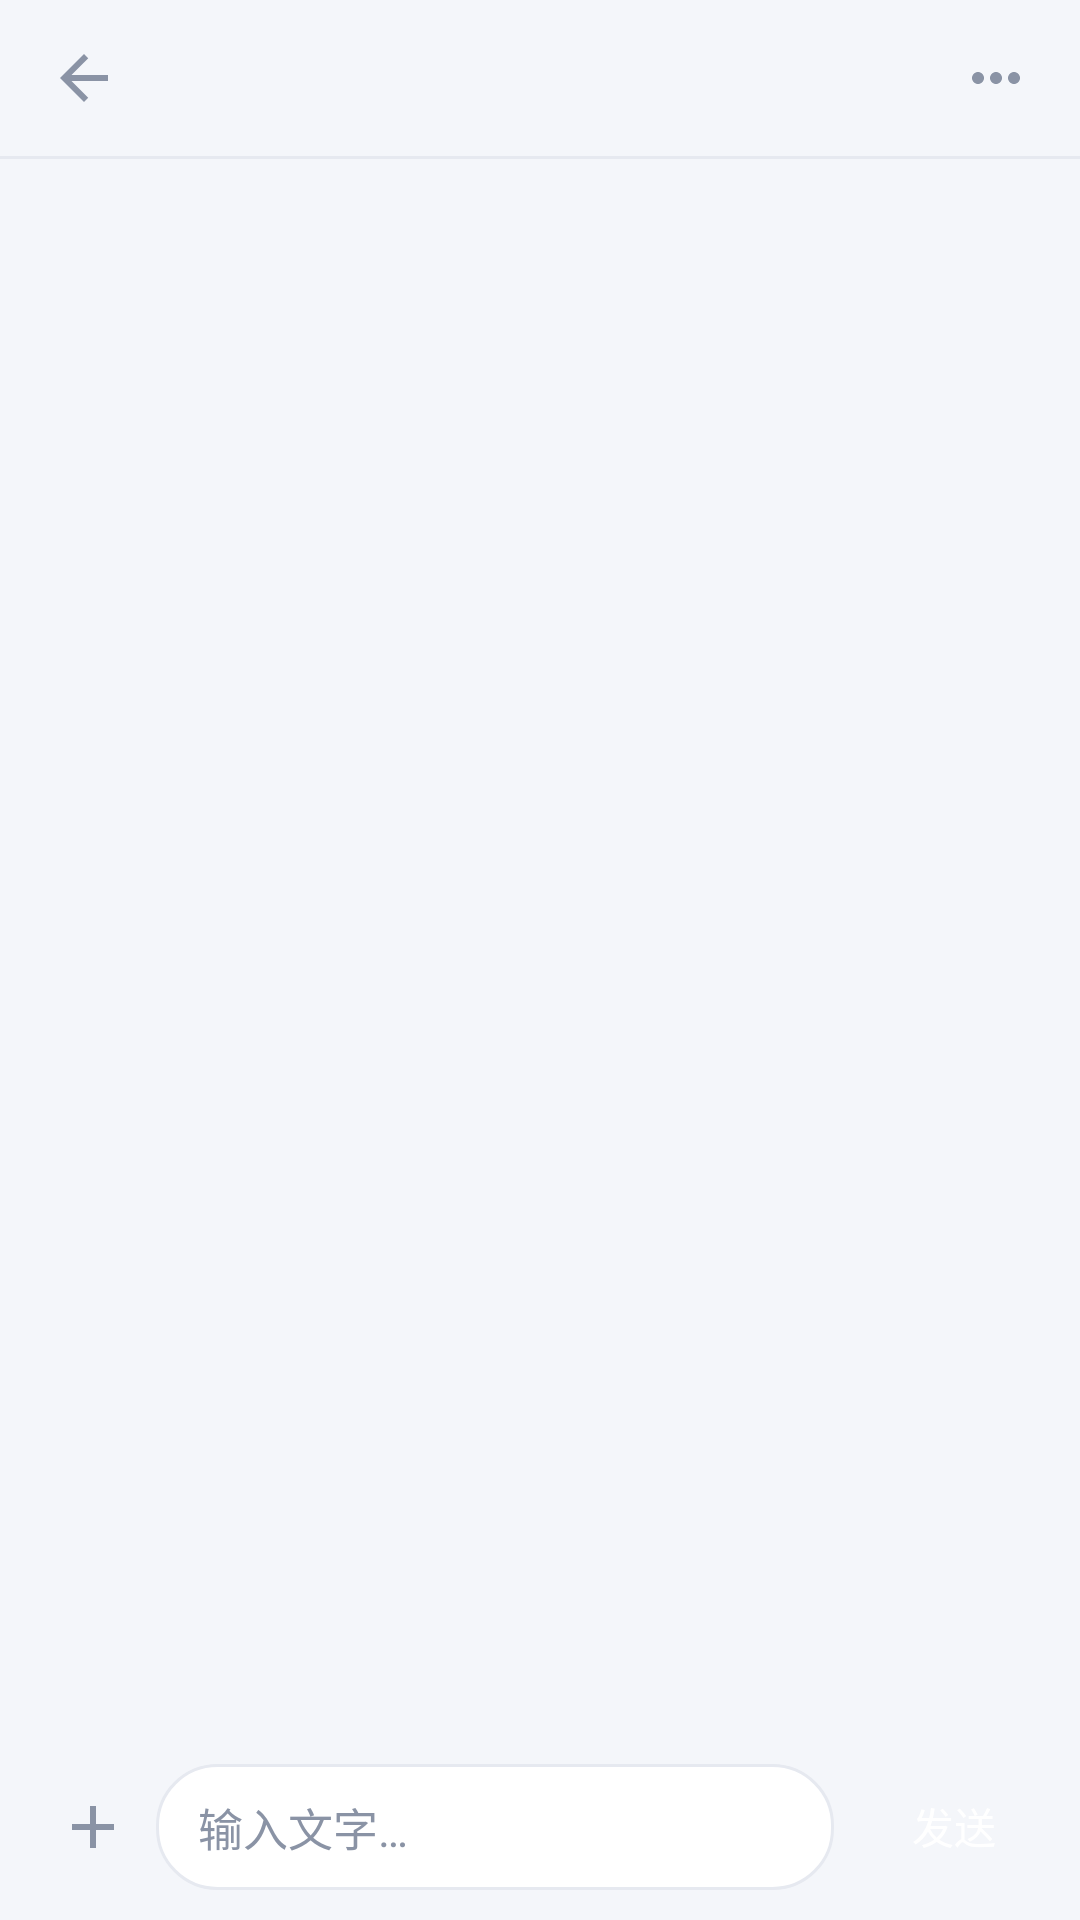

Named icons in this screenshot (1080×1920) and their bounding boxes, (x1, y1, x2, y2):
add: (72, 1806, 114, 1848)
back: (60, 54, 108, 102)
more: (972, 72, 1020, 84)
